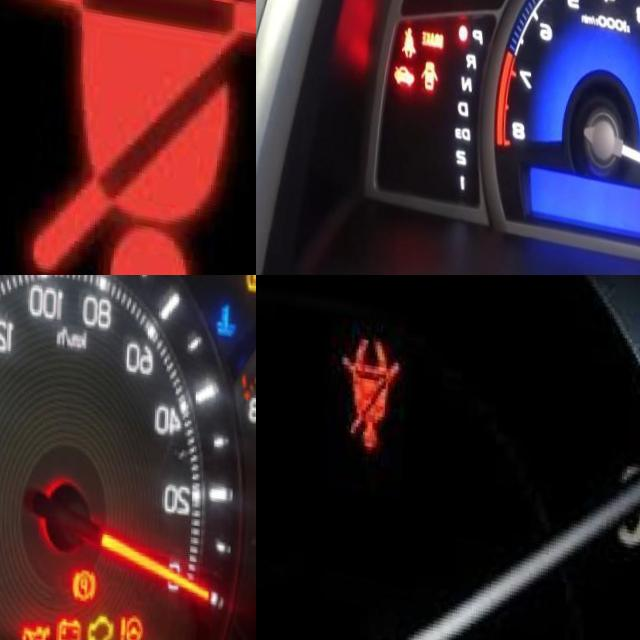Engine cooling system: (213, 279, 241, 329)
Seat Belt: (0, 0, 256, 275), (342, 328, 410, 453)
